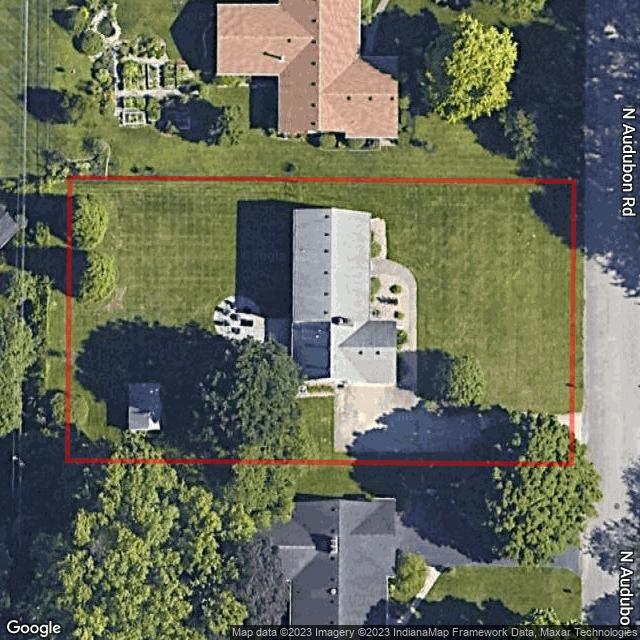Driveway: (292, 215, 569, 456)
Extra Driveway: (575, 411, 583, 445)
Extra Lawn: (575, 181, 585, 414)
House: (294, 209, 395, 383)
Other: (214, 296, 289, 343), (129, 384, 161, 432)
